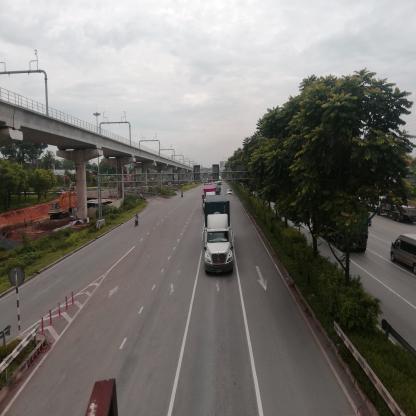car: (386, 230, 416, 275)
container: (203, 196, 235, 278)
motorbike: (134, 215, 139, 227), (181, 194, 184, 199)
